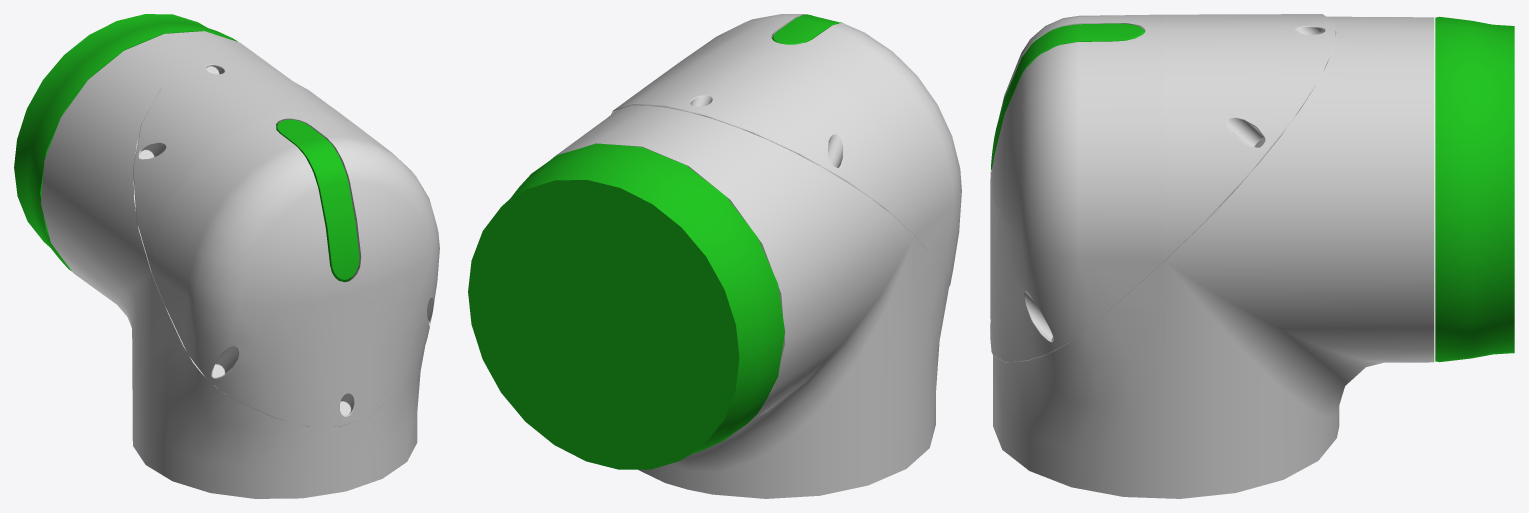
The picture shows the model from 3 angles, left to right: view 1: azimuth 30°, elevation 25°; view 2: azimuth 150°, elevation 25°; view 3: azimuth 270°, elevation 25°; orthographic projection. The views are drawn at different scales.
Parts seen in each view (by area): view 1: CRX-10iAL_Axis1; view 2: CRX-10iAL_Axis1; view 3: CRX-10iAL_Axis1.
Part boxes in pixels (bbox=[...]): CRX-10iAL_Axis1: bbox=[14, 14, 439, 498]; CRX-10iAL_Axis1: bbox=[468, 14, 961, 498]; CRX-10iAL_Axis1: bbox=[990, 14, 1514, 498].
Bounding box in the file's own units: 0.158 × 0.2392 × 0.1992.
